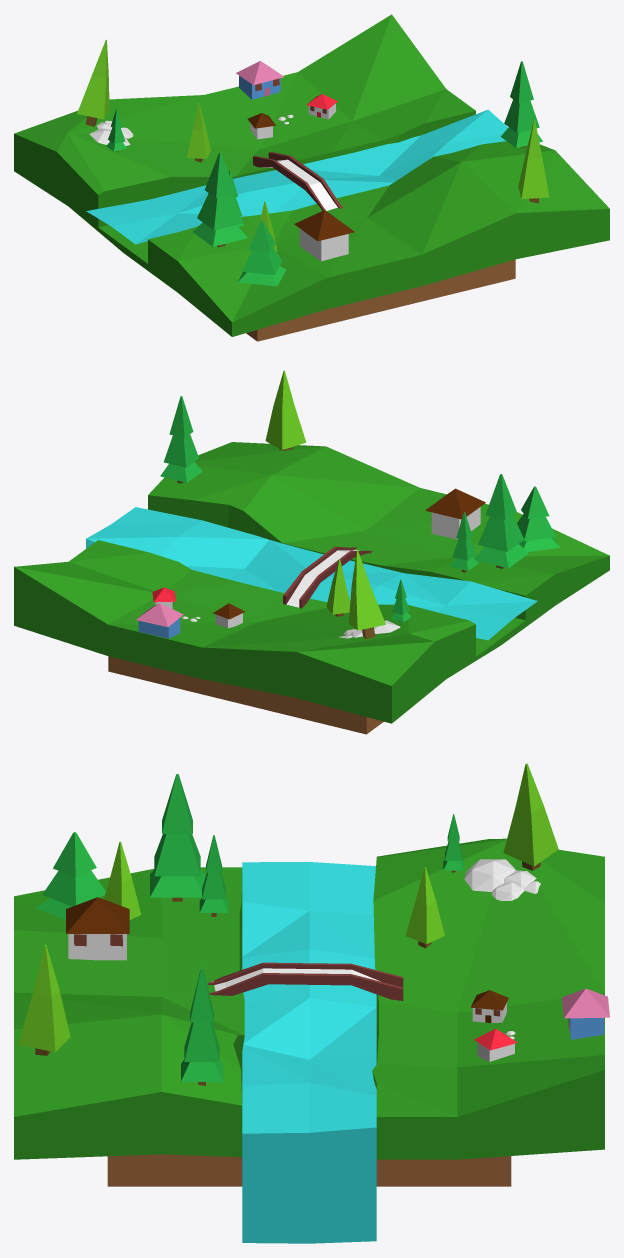
The model's file is low-poly-world.glb.
3 views of the same model, one above another, from view 1: azimuth 30°, elevation 25°; view 2: azimuth 150°, elevation 25°; view 3: azimuth 270°, elevation 25° (orthographic). The views are drawn at different scales.
Parts seen in each view (by area): view 1: Cube, Plane, Cube.005, Cube.011, Cube.006, Cube.019, Cube.007, Cube.018, Cube.010, Cube.009, Cube.004, Cube.016 (+2 smaller); view 2: Cube, Plane, Cube.005, Cube.019, Cube.011, Cube.018, Cube.007, Cube.006, Cube.010, Cube.008, Cube.009, Cube.004 (+3 smaller); view 3: Cube, Plane, Cube.011, Cube.005, Cube.007, Cube.018, Cube.019, Cube.006, Cube.010, Cube.004, Cube.008, Cube.002 (+5 smaller).
Boxes of the visible parts, <box> form: Cube: <box>14,14,609,341</box>; Plane: <box>86,109,508,244</box>; Cube.005: <box>193,152,247,247</box>; Cube.011: <box>253,152,342,211</box>; Cube.006: <box>237,220,286,286</box>; Cube.019: <box>501,61,542,147</box>; Cube.007: <box>77,39,109,126</box>; Cube.018: <box>518,120,549,203</box>; Cube.010: <box>294,210,354,241</box>; Cube.009: <box>299,228,348,261</box>; Cube.004: <box>187,103,210,162</box>; Cube.016: <box>236,61,284,85</box>; Cube: <box>14,442,609,734</box>; Plane: <box>86,507,537,640</box>; Cube.005: <box>474,474,528,568</box>; Cube.019: <box>160,396,202,483</box>; Cube.011: <box>283,546,372,608</box>; Cube.018: <box>265,370,306,450</box>; Cube.007: <box>348,550,385,639</box>; Cube.006: <box>517,486,560,551</box>; Cube.010: <box>425,488,485,519</box>; Cube.008: <box>450,512,478,572</box>; Cube.009: <box>431,507,480,539</box>; Cube.004: <box>326,558,350,616</box>; Cube: <box>14,838,604,1186</box>; Plane: <box>242,862,376,1243</box>; Cube.011: <box>208,962,403,1000</box>; Cube.005: <box>150,774,205,901</box>; Cube.007: <box>503,763,558,870</box>; Cube.018: <box>18,945,70,1055</box>; Cube.019: <box>181,967,223,1085</box>; Cube.006: <box>36,832,105,919</box>; Cube.010: <box>66,897,129,933</box>; Cube.004: <box>405,867,444,948</box>; Cube.008: <box>199,835,228,916</box>; Cube.002: <box>104,841,141,919</box>.
Size of the model in its own units: 9.35 by 4.33 by 8.86.
